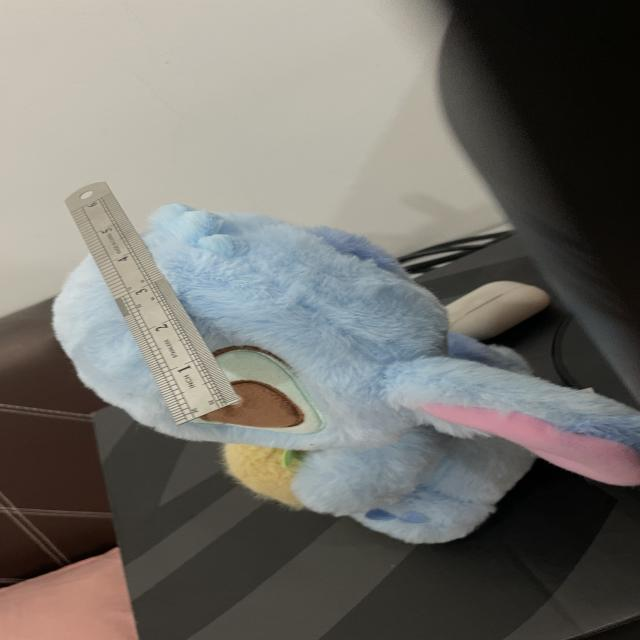ruler: (65, 182, 240, 425)
